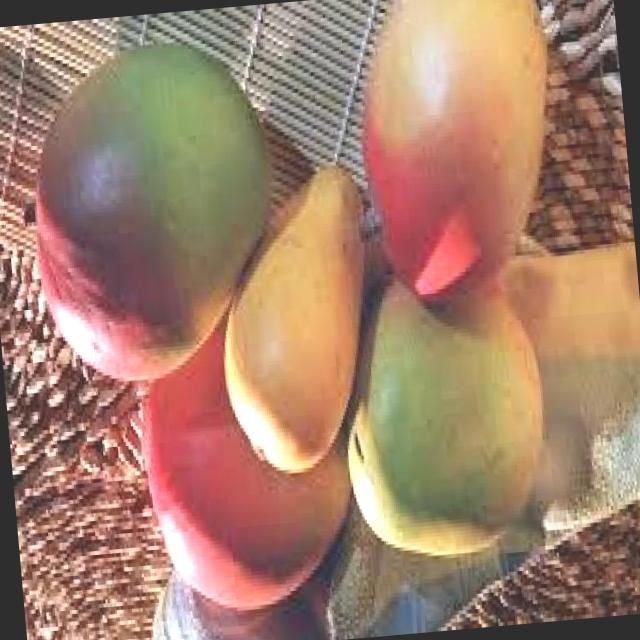Mango: (21, 34, 291, 392), (351, 0, 570, 309), (133, 318, 360, 616), (333, 266, 558, 566), (208, 167, 384, 478)
